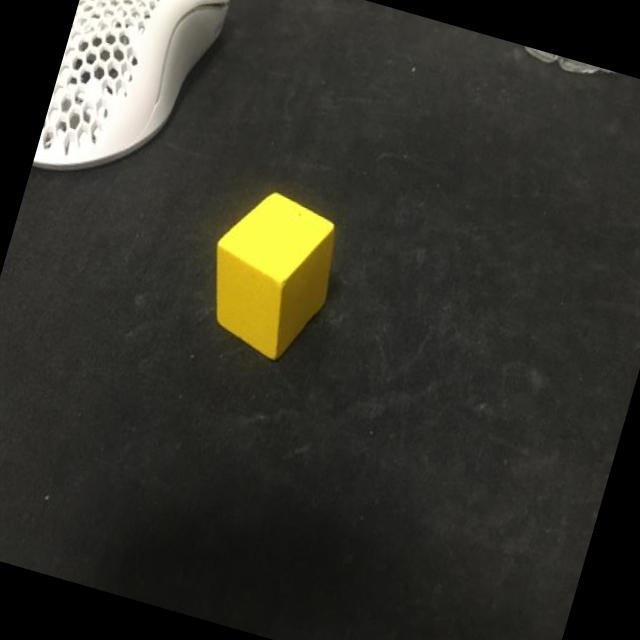yellow: (190, 180, 352, 371)
